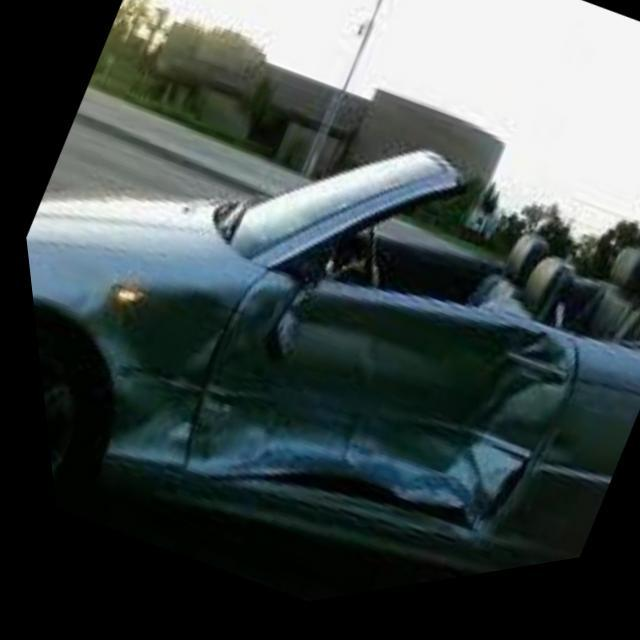dent: (66, 280, 610, 586)
